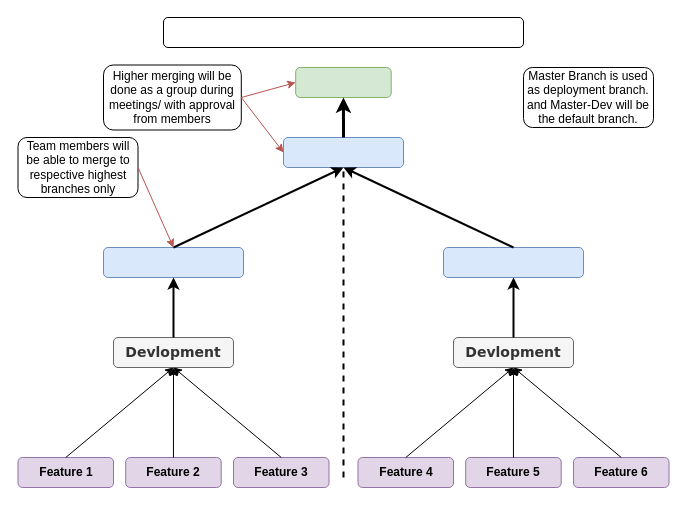
The diagram is 686 pixels wide and 505 high, and some of its shapes have lost their labels. The shapes that lost their labels are listed below. From the top down, each one's centre as x and y in pixels, then its label:
point 343,32: Team BlueJ Github Repo Structure
point 343,82: Master
point 343,152: Master-Dev
point 173,262: Frontend
point 513,262: Backend
